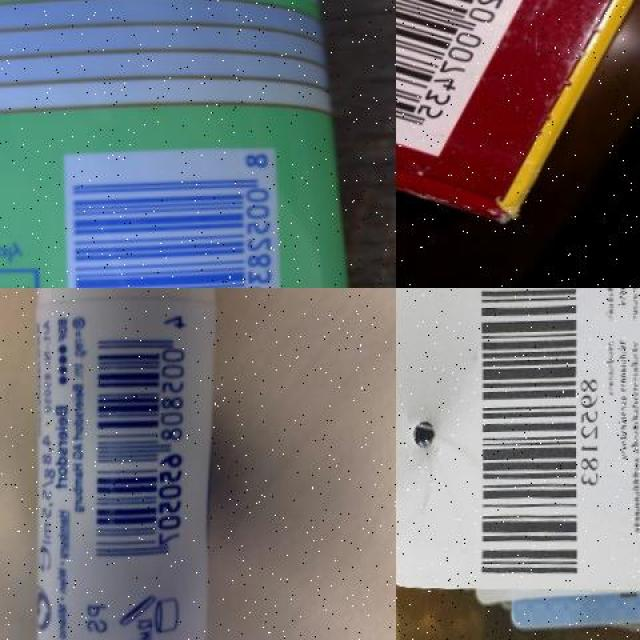Barcode: (469, 288, 600, 587), (54, 143, 294, 288), (85, 308, 199, 572), (396, 0, 577, 160)
